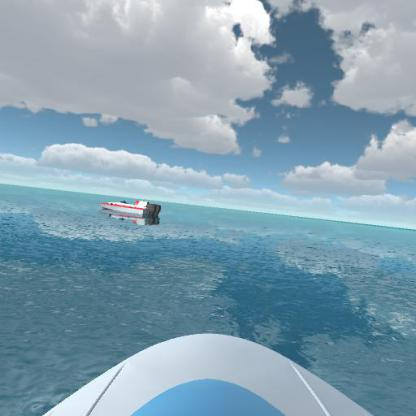usv3: (94, 195, 163, 227)
